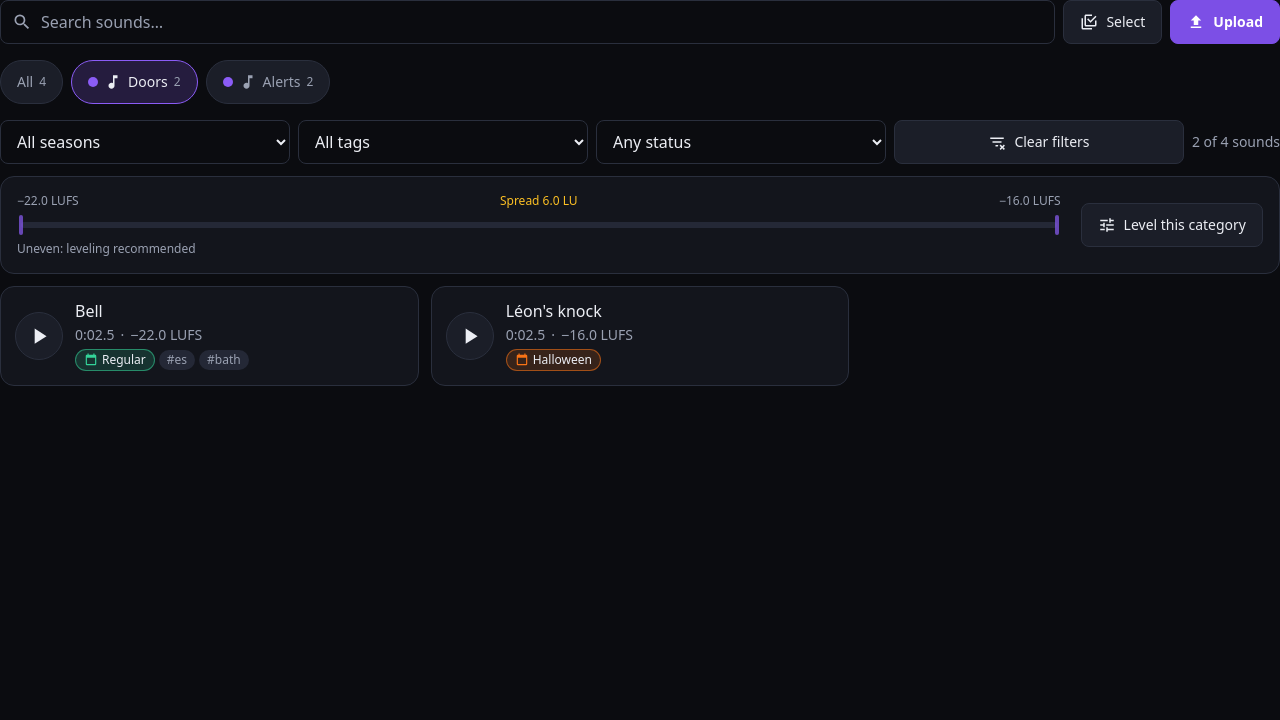
Scenario: loudness strip › keeps the dialog open and explains a failure inline
Click the button with test id "level". click: (1172, 225)
box: [1081, 203, 1263, 247]
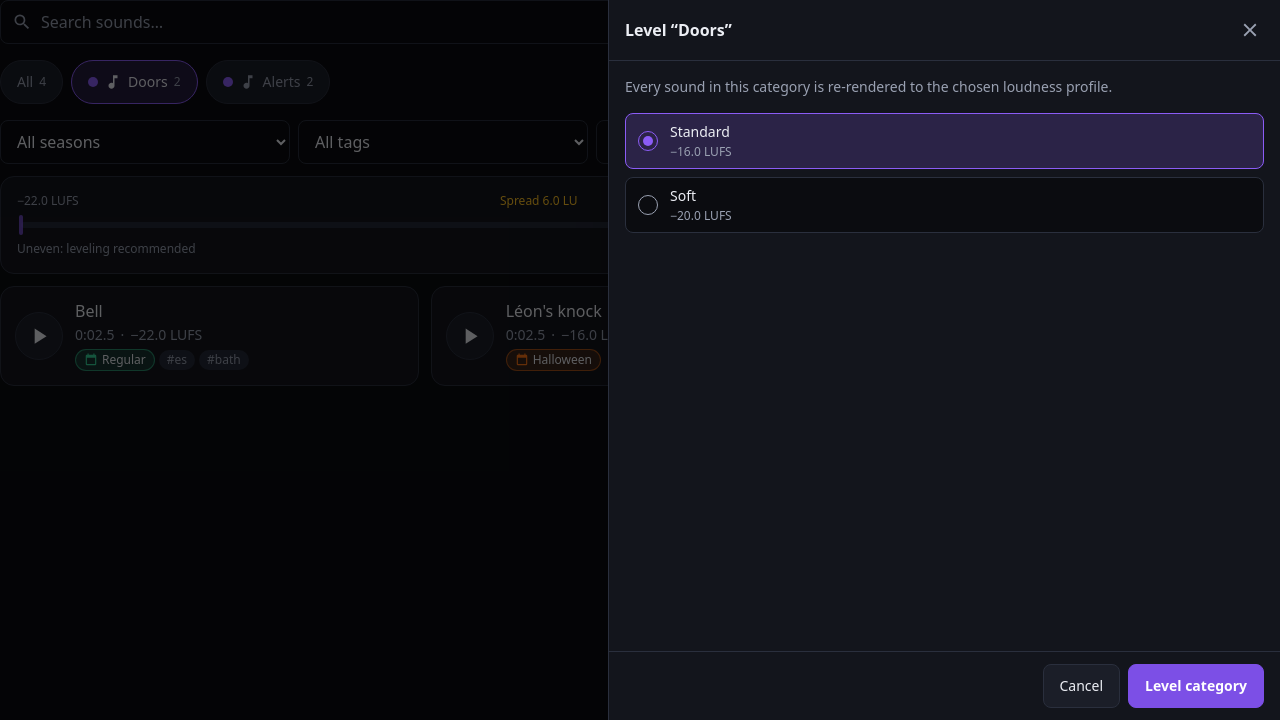
Click the button with test id "apply". click: (1196, 686)
box: [1128, 664, 1264, 708]
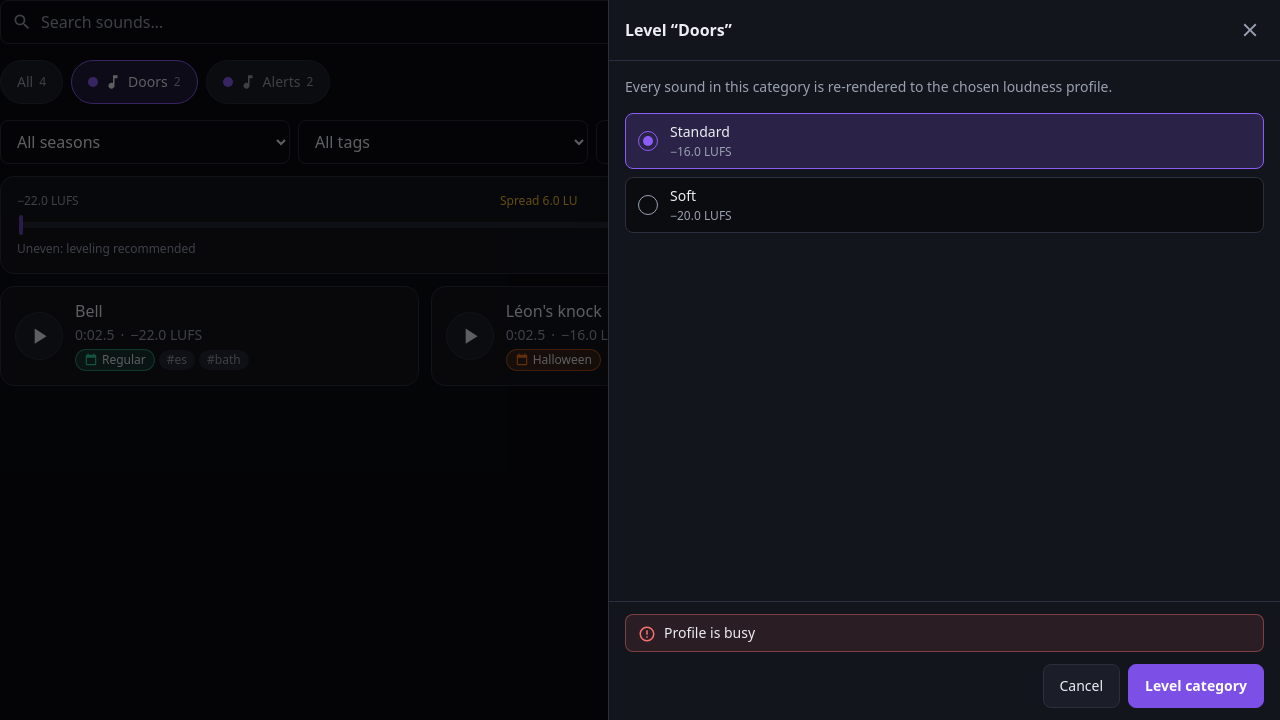
expect the message "Profile is busy" is shown: met, box [625, 614, 1264, 652]
